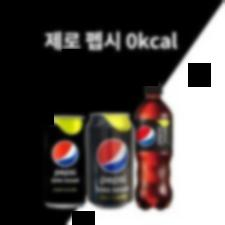pepsi_zero: (86, 113, 134, 209)
